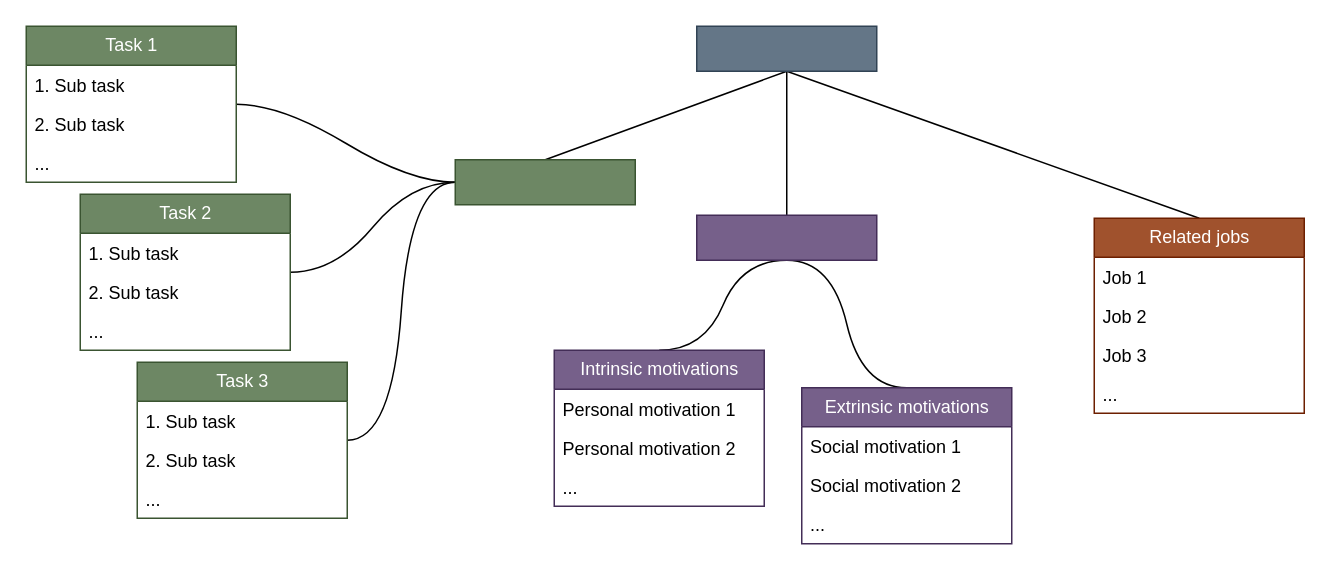
This 1331x575 diagram has some shape labels left out. Each missing label, with the centre of its shape:
Customer job: the point at 786,48
Emotional job: the point at 786,237
Functional job: the point at 544,181
